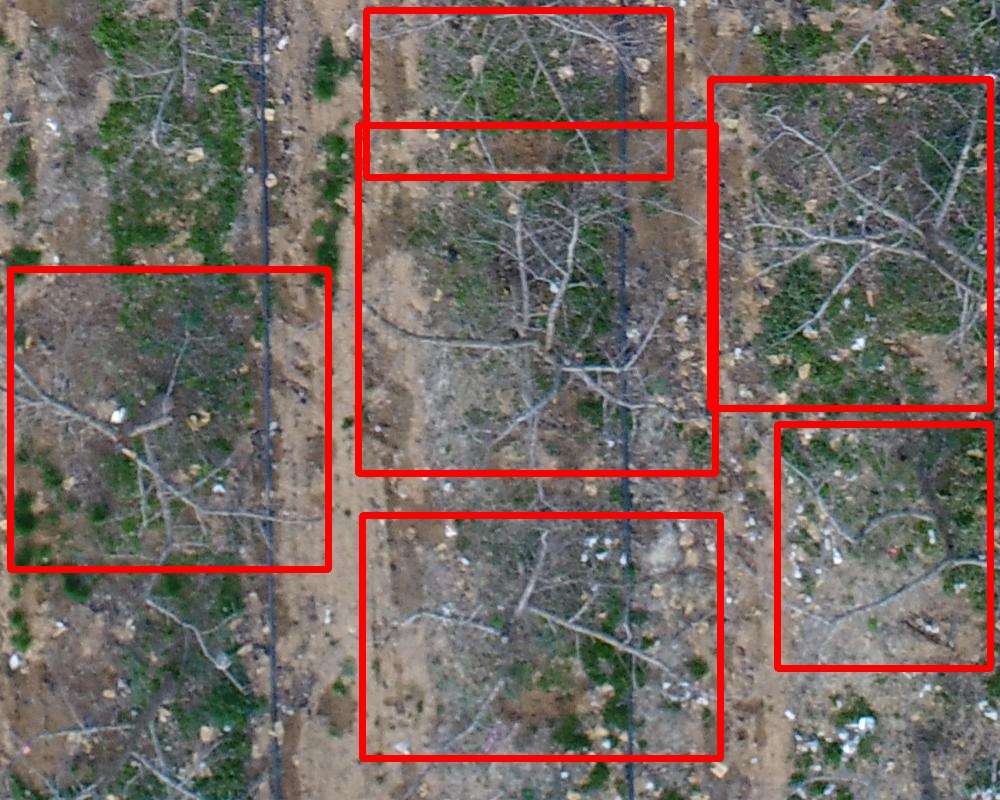apple: (358, 125, 715, 473), (10, 269, 328, 569), (710, 79, 990, 408), (362, 515, 720, 758), (777, 424, 990, 668), (366, 10, 670, 177)
